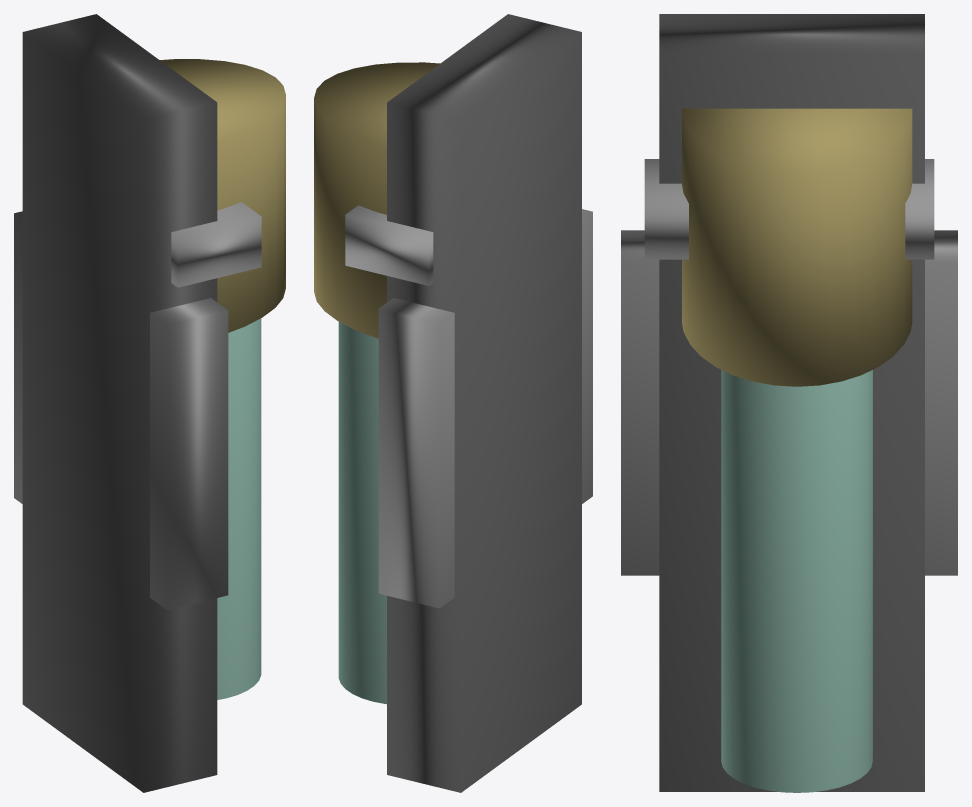
File: lamp 1.fbx
3 views of the same model, side by side, from view 1: azimuth 30°, elevation 25°; view 2: azimuth 150°, elevation 25°; view 3: azimuth 270°, elevation 25° (orthographic). The views are drawn at different scales.
Parts seen in each view (by area): view 1: PM3D_Plane3D219_011; view 2: PM3D_Plane3D219_011; view 3: PM3D_Plane3D219_011.
Part boxes in pixels (bbox=[...]): PM3D_Plane3D219_011: bbox=[14, 14, 285, 792]; PM3D_Plane3D219_011: bbox=[314, 14, 592, 792]; PM3D_Plane3D219_011: bbox=[621, 14, 957, 792].
Size of the model in its own units: 16.36 by 53.97 by 22.3.
